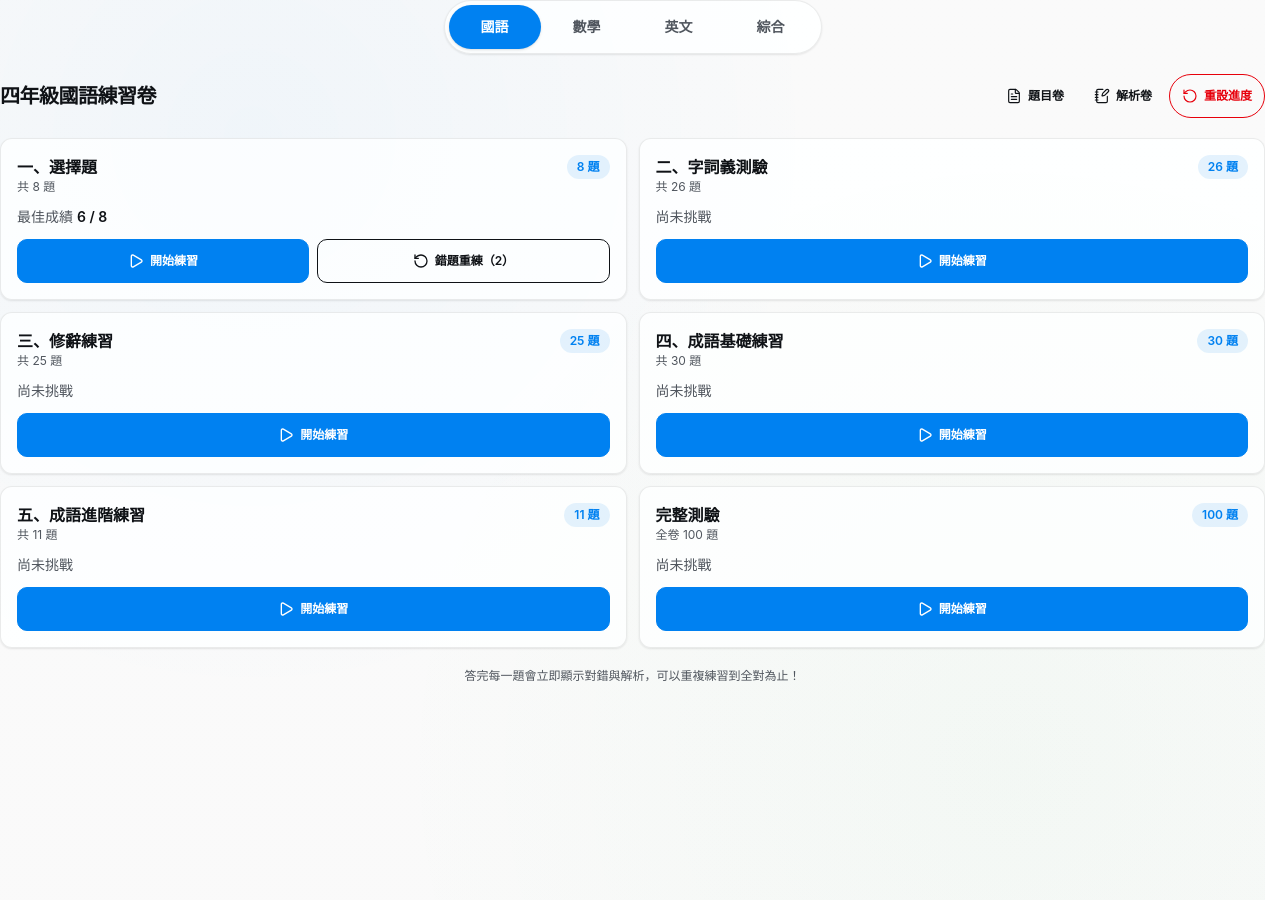
Test: ExamHub progress reset › clears the current subject after confirmation and refreshes the cards
Click the button "重設進度" at (1217, 96), box [1169, 74, 1265, 118]
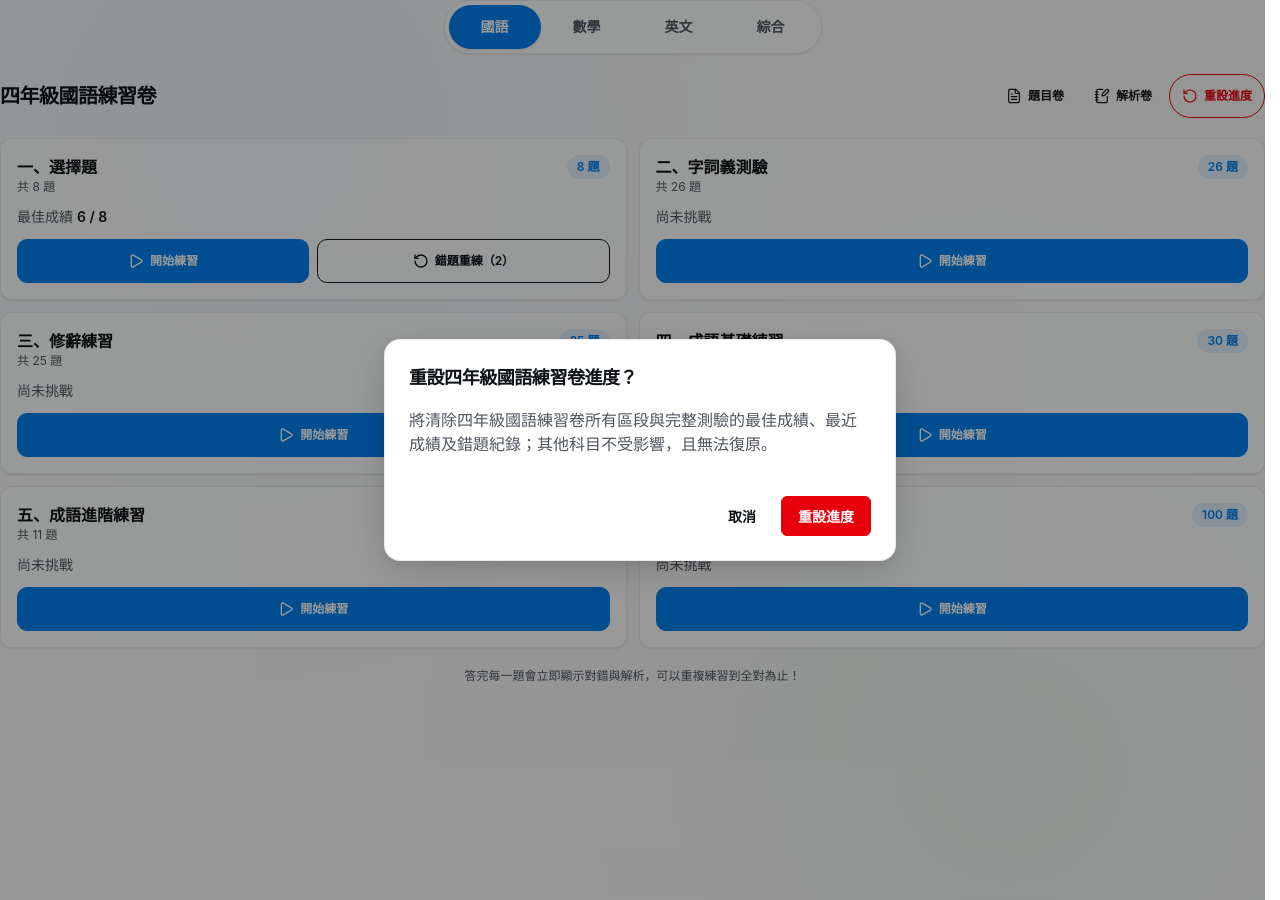
Click the button "重設進度" at (826, 516), box [781, 496, 871, 536]
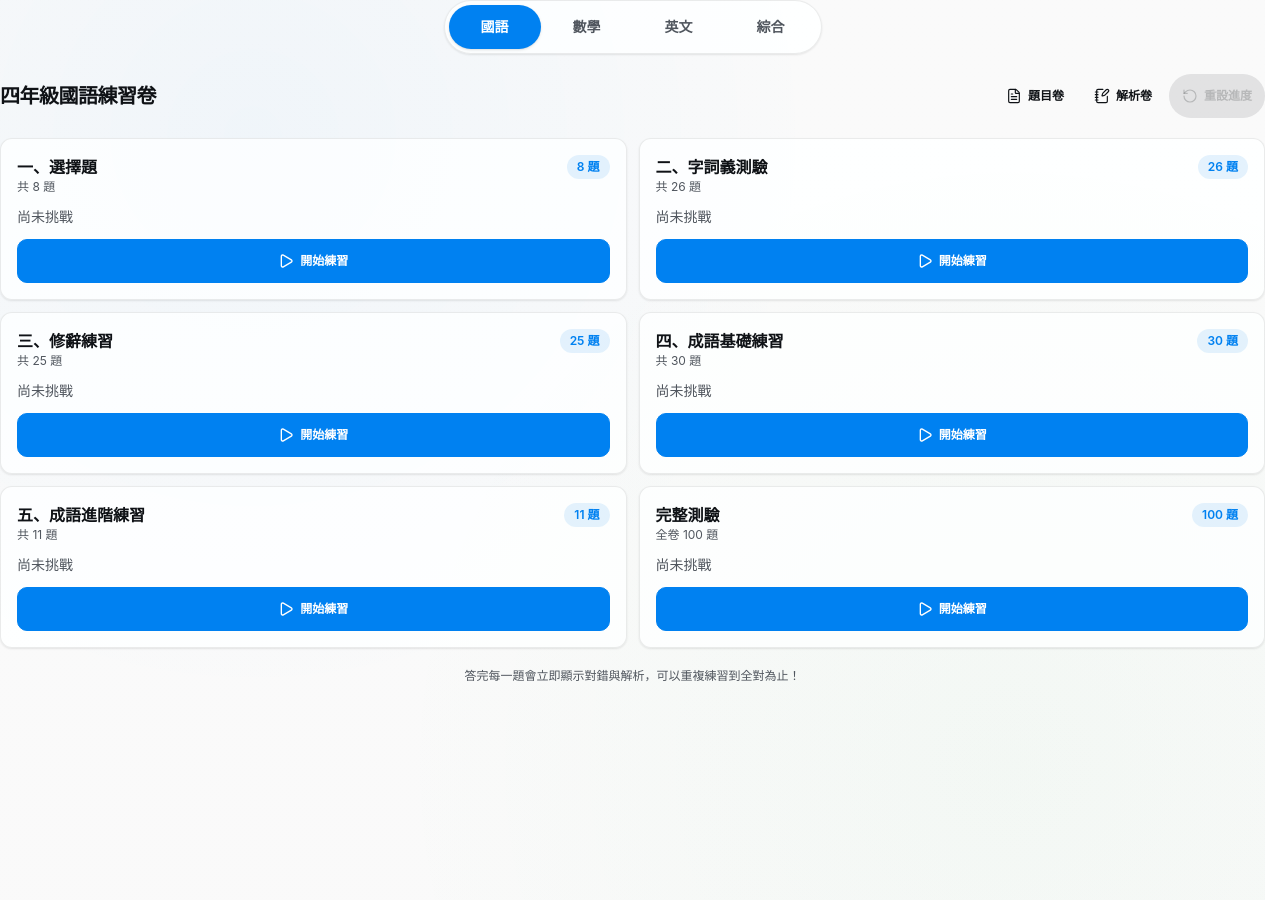
Expected: the text "6 / 8" is gone
Expected: the text "錯題重練（2）" is gone
Expected: the button "重設進度" is disabled, [1169, 74, 1265, 118]
